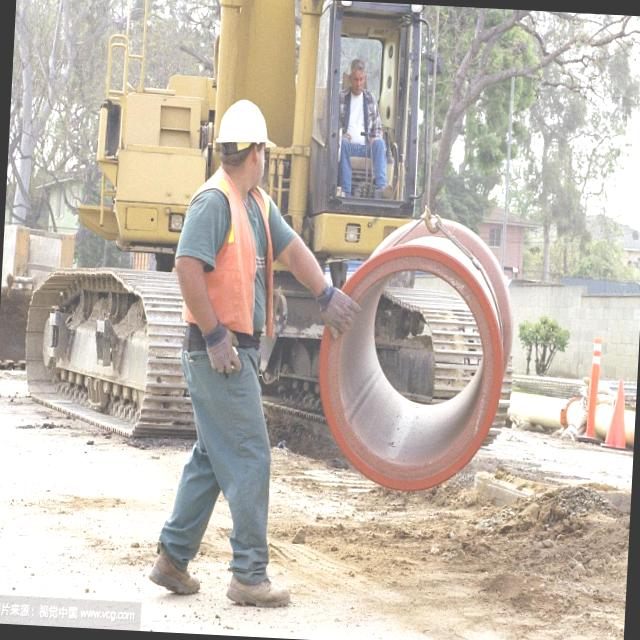helmet: (210, 99, 272, 166)
no-helmet: (343, 54, 374, 84)
no-vest: (344, 94, 382, 148)
vest: (185, 167, 282, 345)
